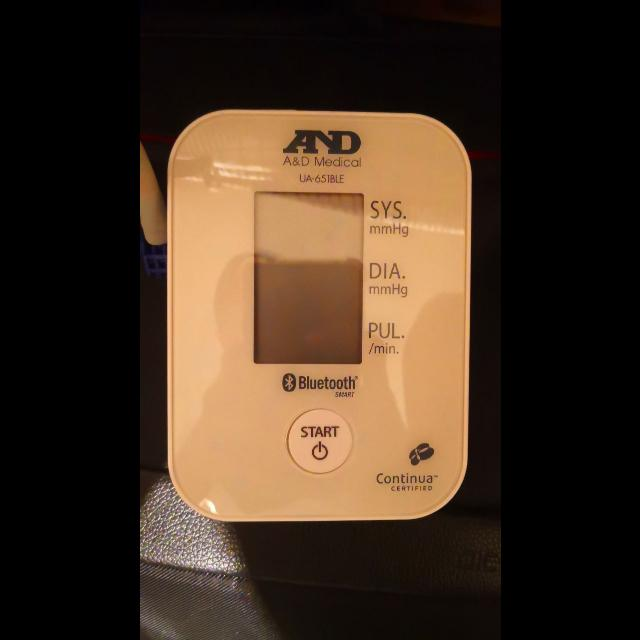Blood-Pressure-Monitor: (165, 110, 471, 522)
